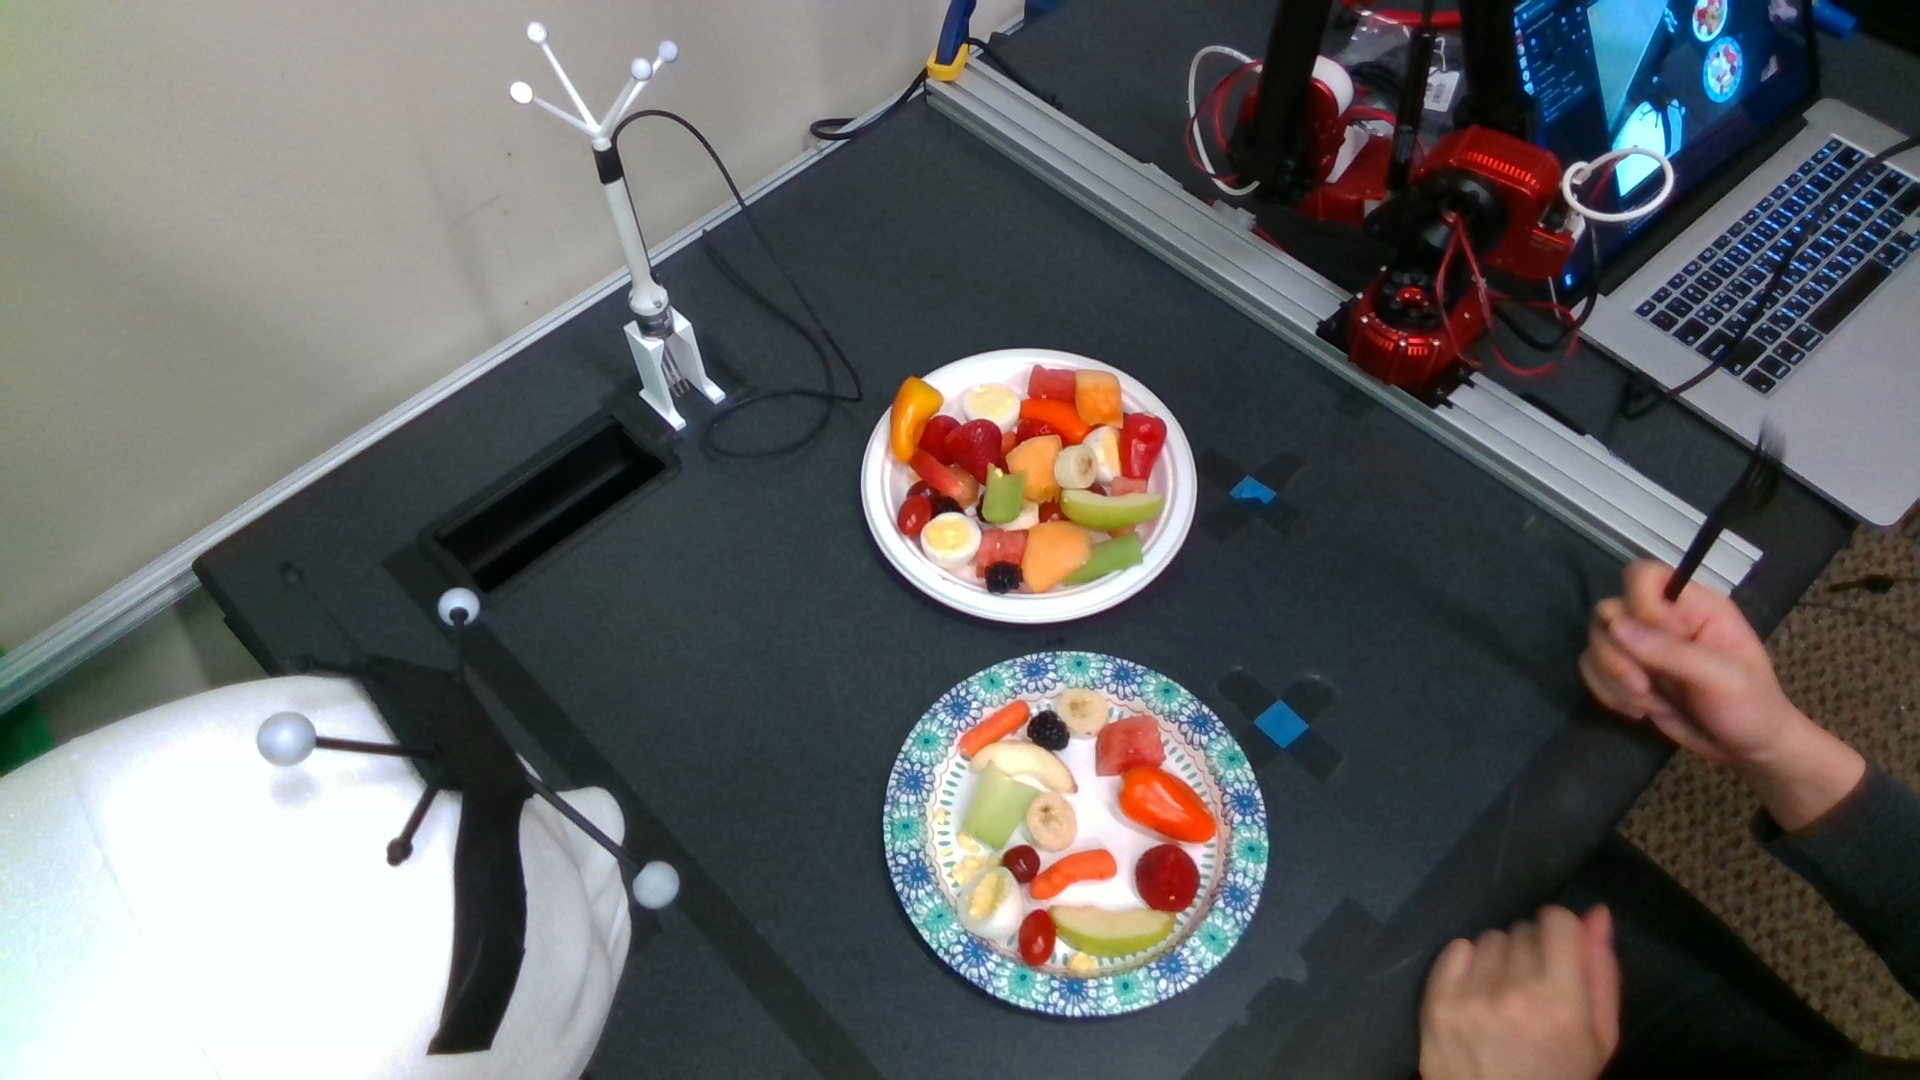apple: (1048, 909, 1178, 957), (971, 740, 1079, 794), (1062, 489, 1163, 529), (909, 451, 963, 496)
banana: (1026, 793, 1077, 851), (1058, 688, 1109, 738), (1055, 446, 1097, 488)
bell pepper: (1120, 765, 1216, 844), (890, 376, 944, 464), (1120, 413, 1166, 481)
blackberry: (1029, 711, 1069, 752), (986, 560, 1022, 593)
cantalope: (1022, 522, 1091, 593), (1006, 435, 1062, 502), (1073, 371, 1124, 429)
carrot: (1029, 848, 1117, 899), (960, 700, 1029, 757)
celery: (963, 762, 1040, 849), (1064, 533, 1143, 585), (982, 464, 1029, 522)
cherry tomato: (1019, 910, 1056, 967), (899, 497, 930, 538)
egg: (959, 866, 1022, 942), (920, 513, 980, 568), (963, 382, 1019, 434)
grape: (1004, 845, 1040, 884)
melon: (1097, 716, 1164, 778), (977, 529, 1025, 574), (1029, 365, 1075, 404)
plate: (882, 651, 1270, 1019), (860, 348, 1197, 624)
strawberry: (1137, 845, 1200, 913), (944, 419, 1001, 485)
